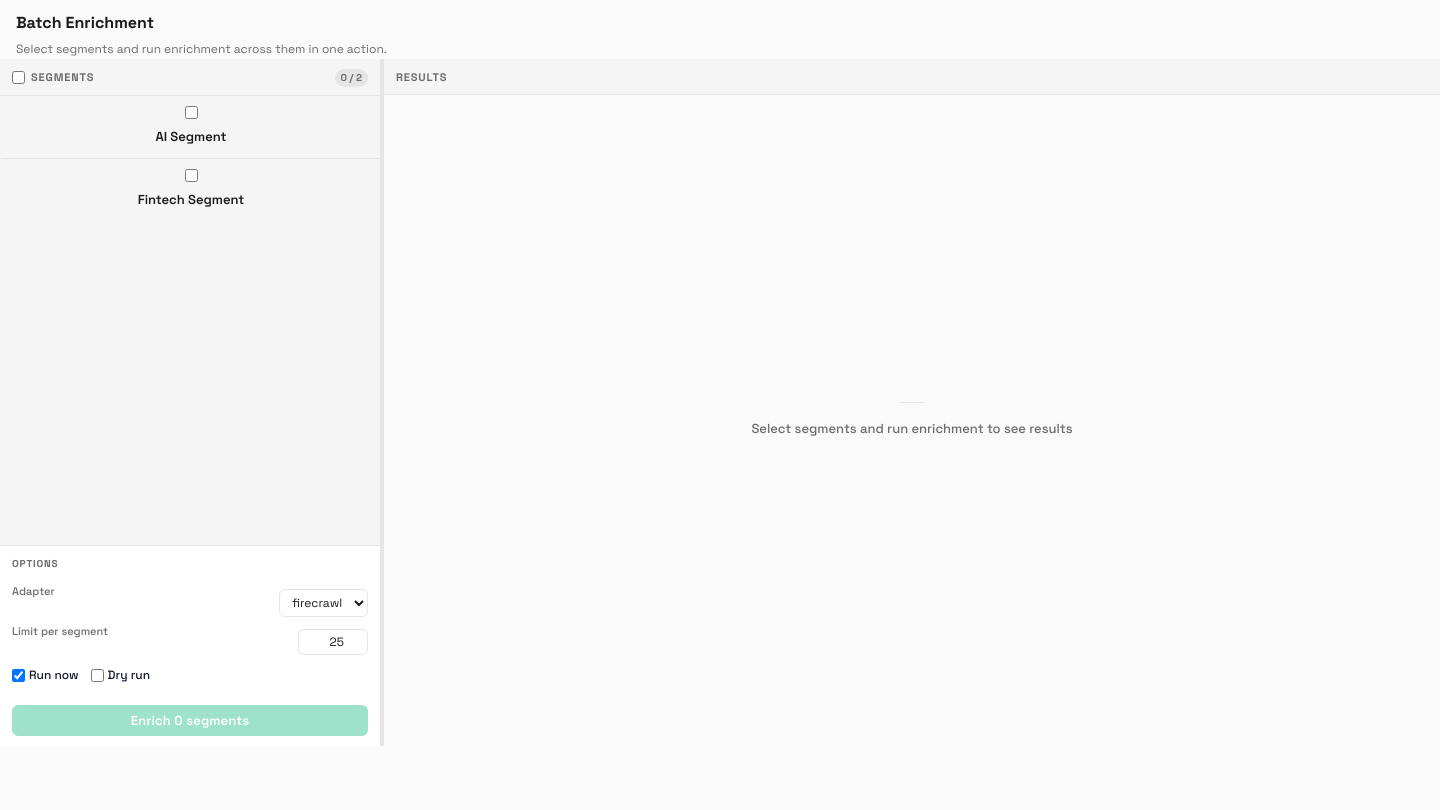
Test case: EnrichmentWorkspacePage › shows mixed success/error results
Expected: the text "AI Segment" is shown, [155,127,226,148]
Click the checkbox named "Select all segments": (18, 78) [12,71,25,84]
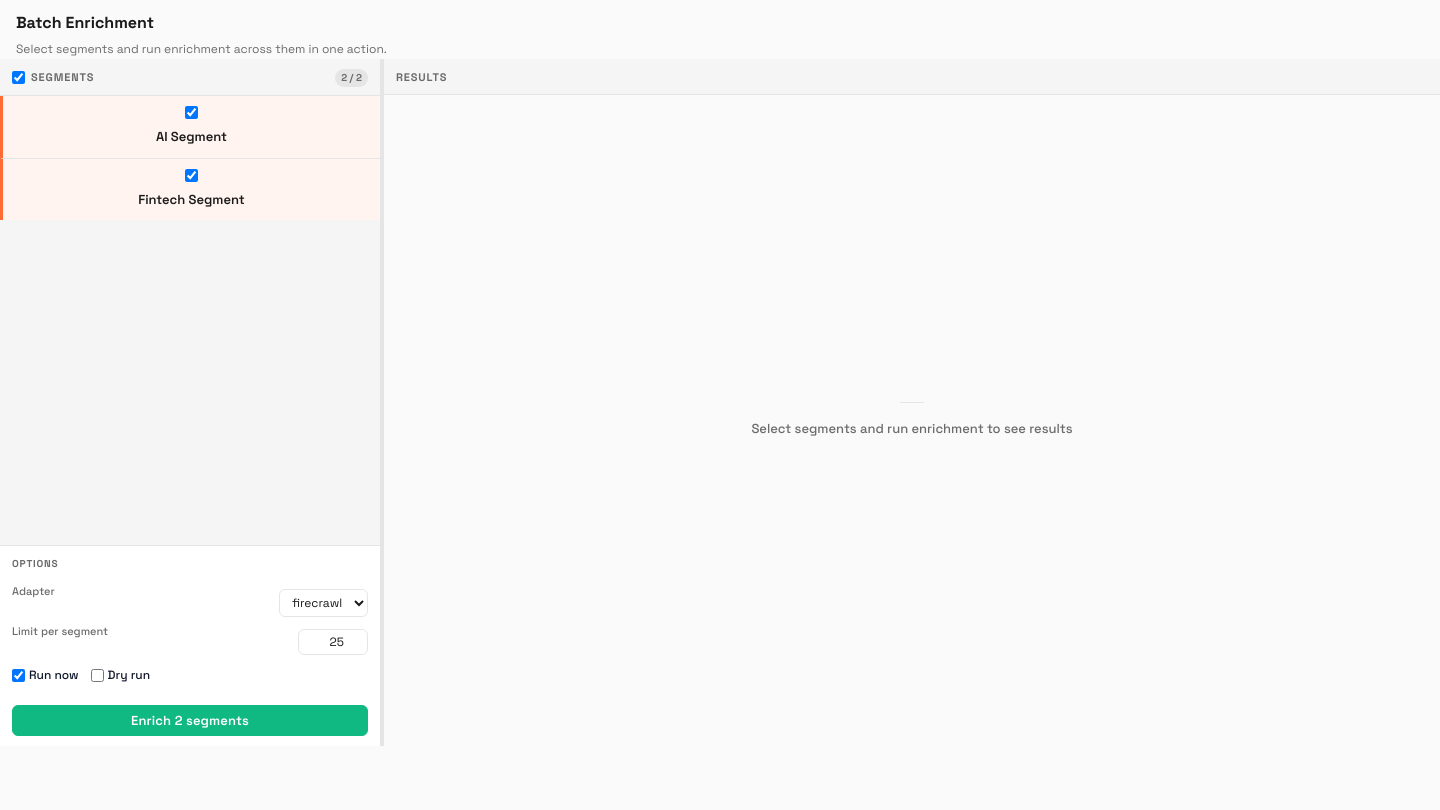
Click the button with aria-label "Run batch enrichment": (190, 720) [12,705,368,736]
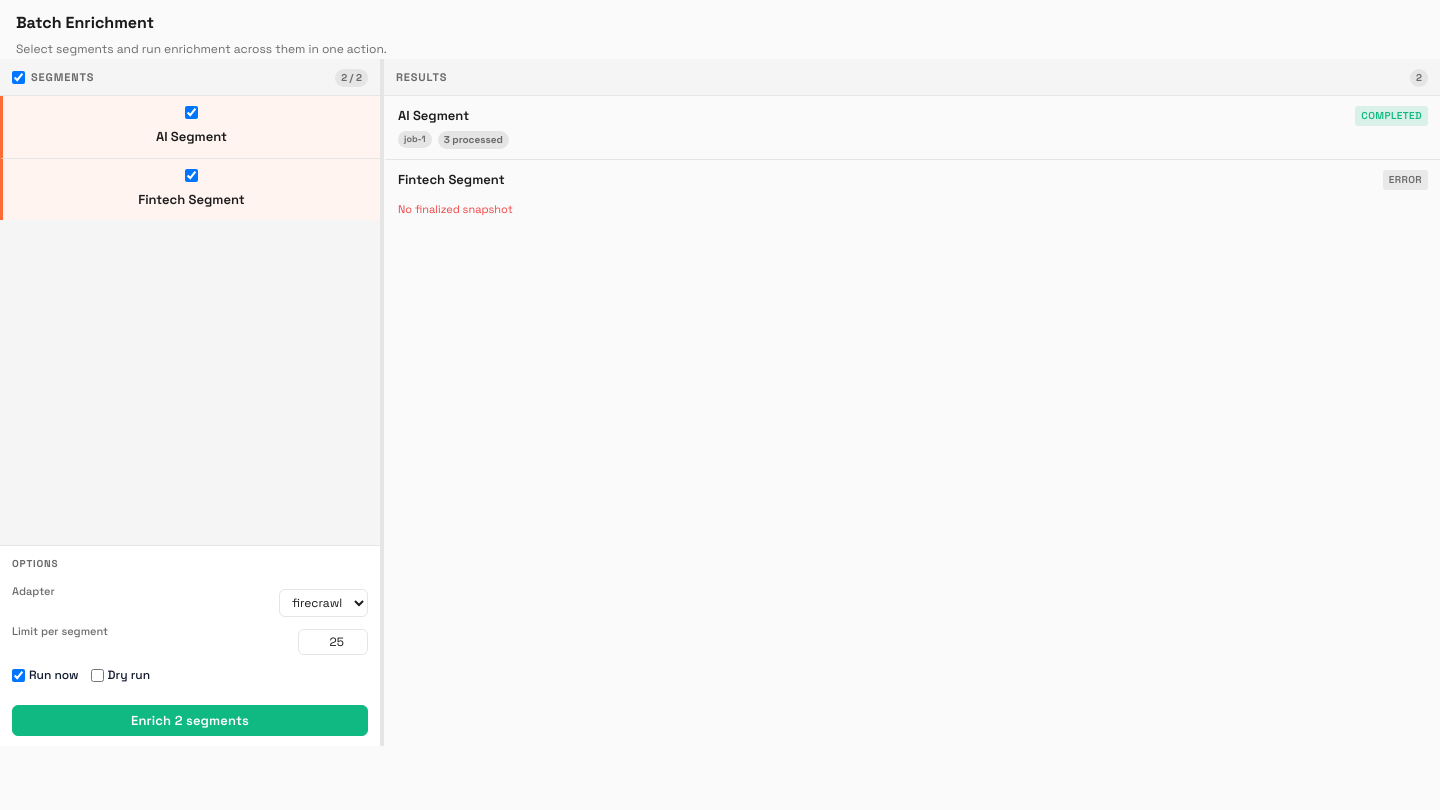
Now the text "completed" is shown, box [1355,106,1428,126]
Now the text "error" is shown, box [1383,170,1428,190]
Now the text "No finalized snapshot" is shown, box [398,202,513,216]
